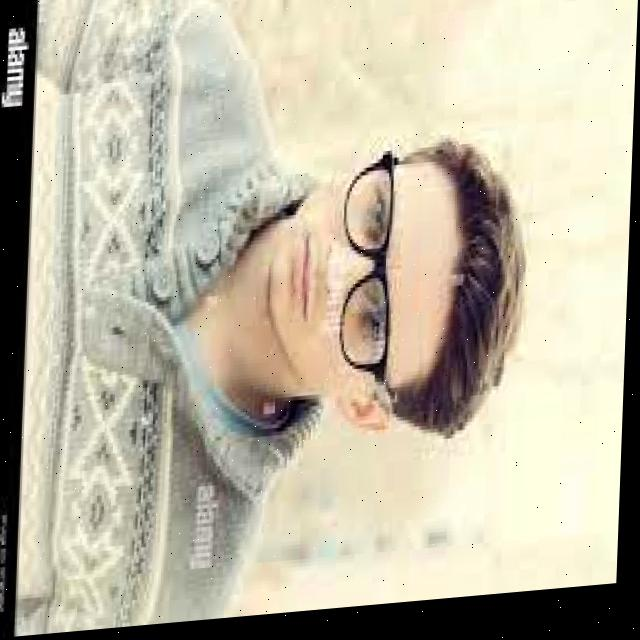natural: (244, 136, 502, 427)
